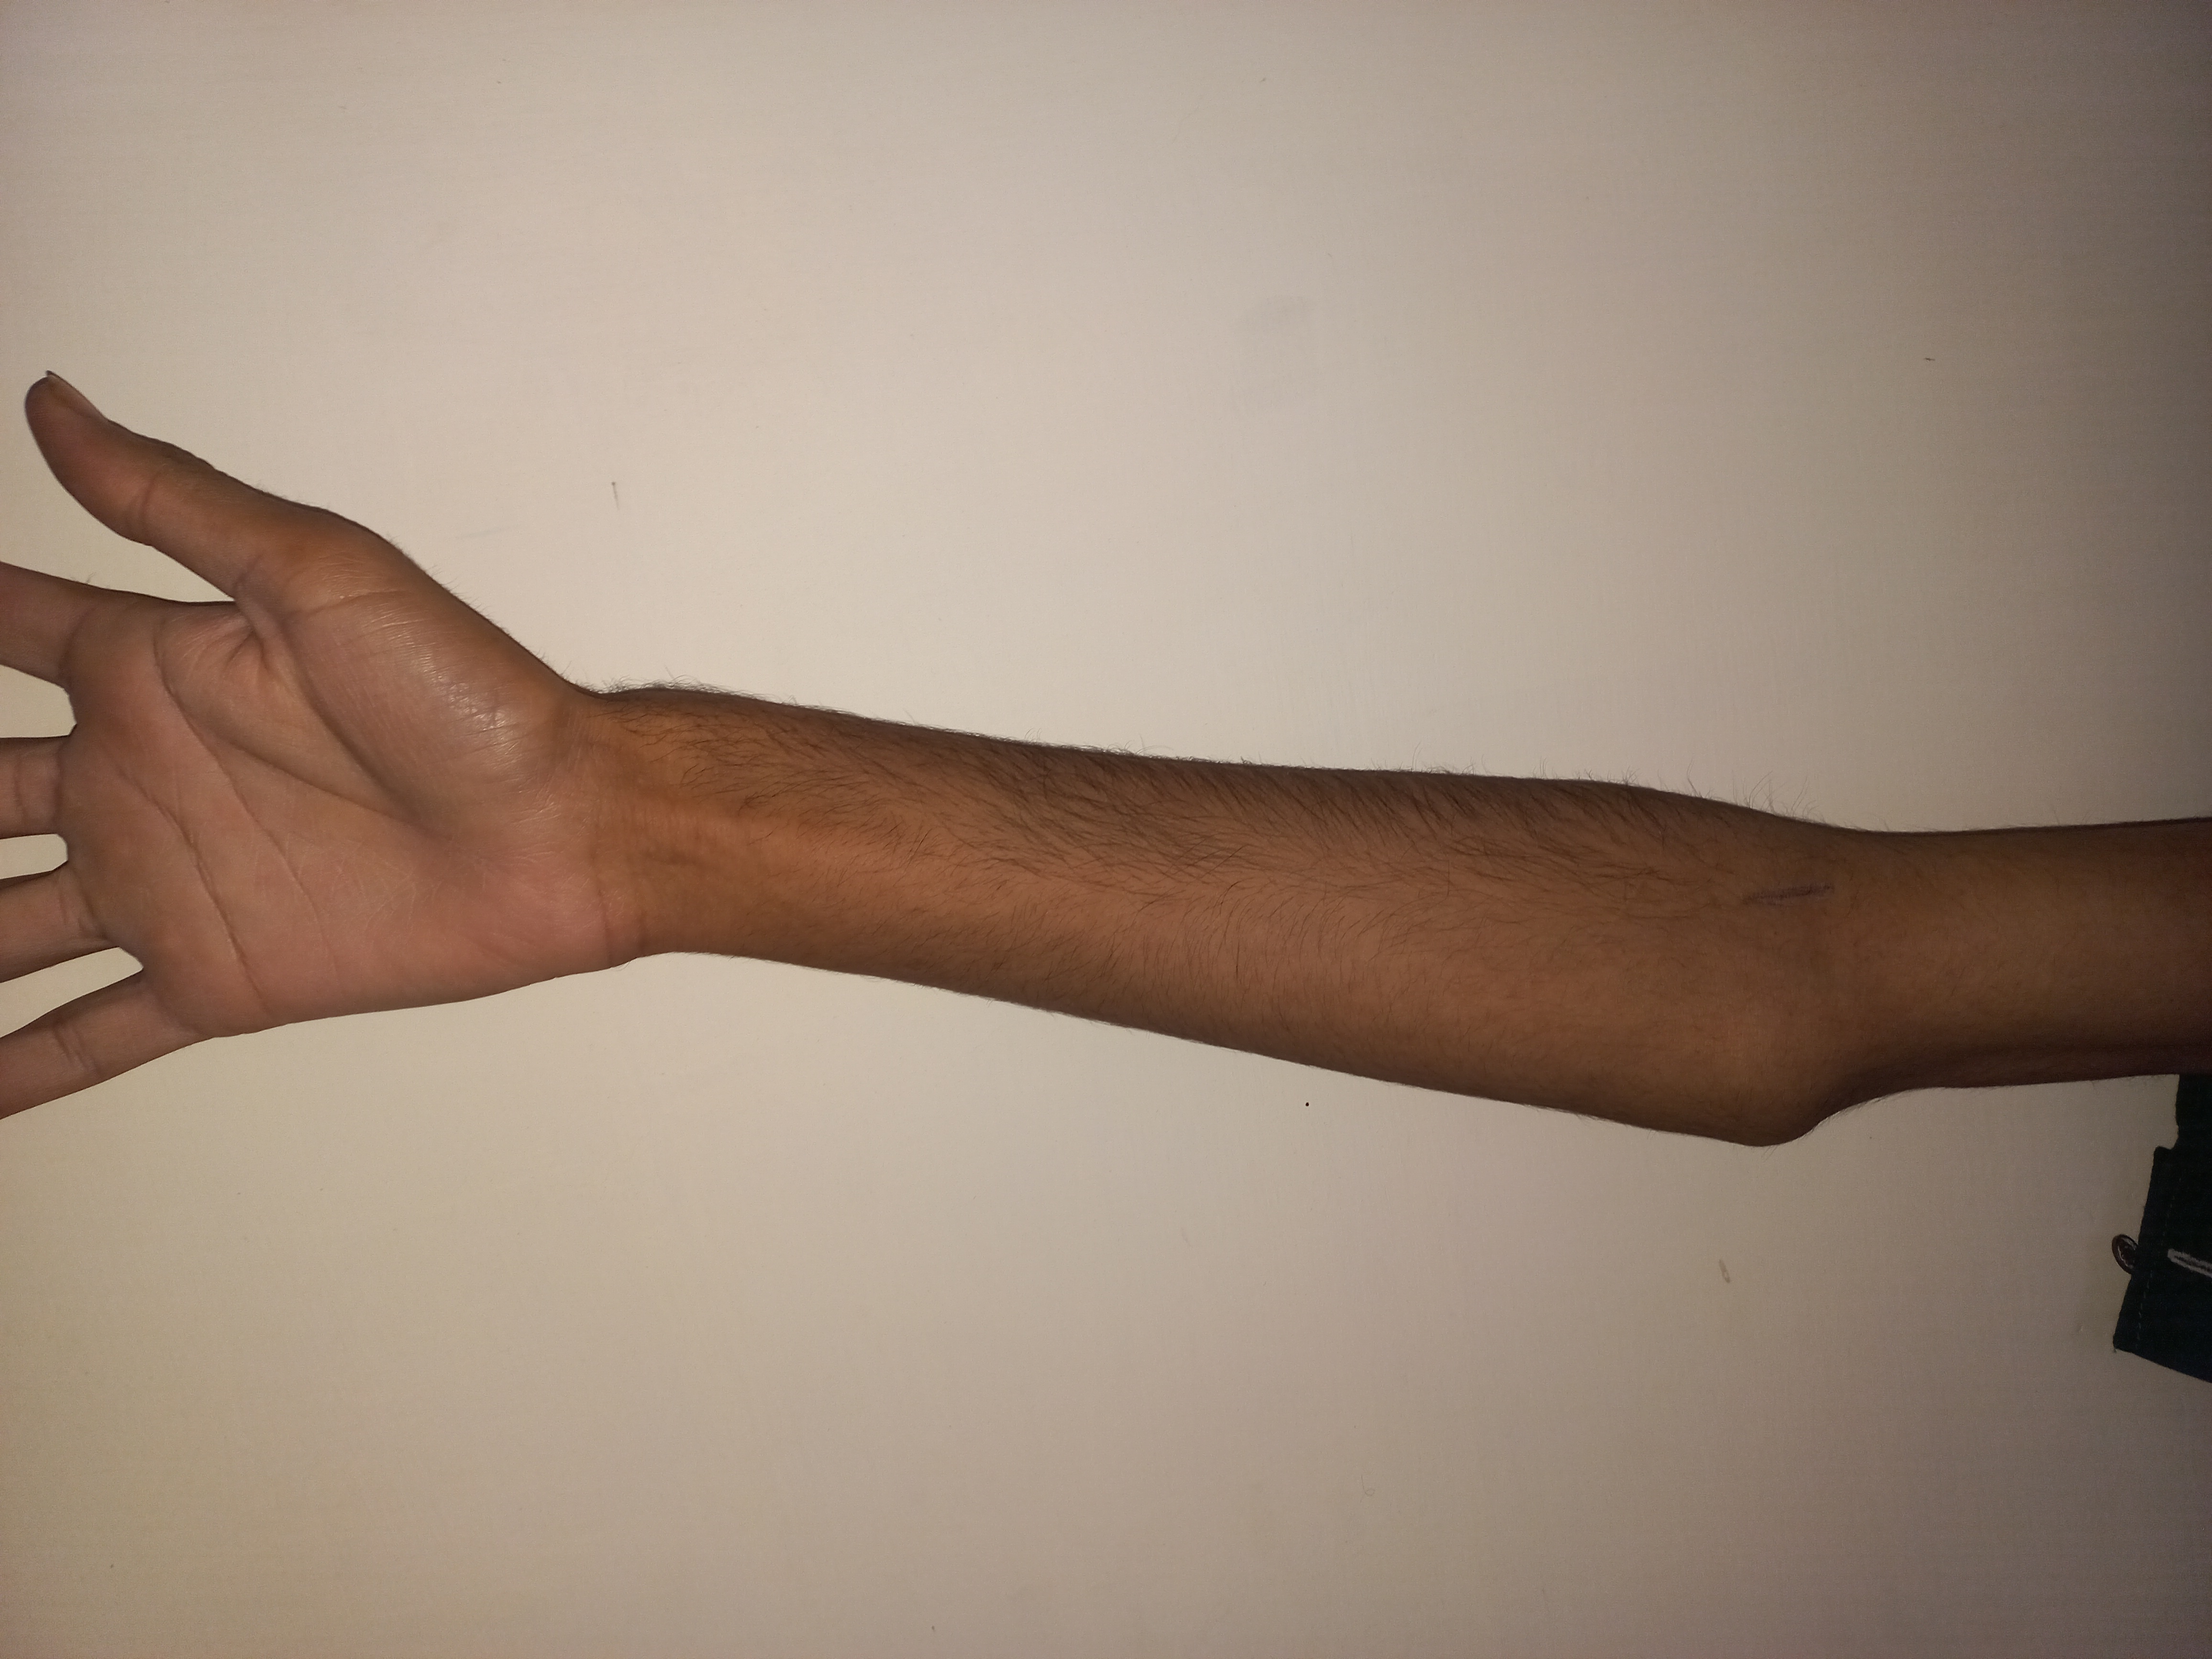vein: (1730, 854, 1867, 927)
